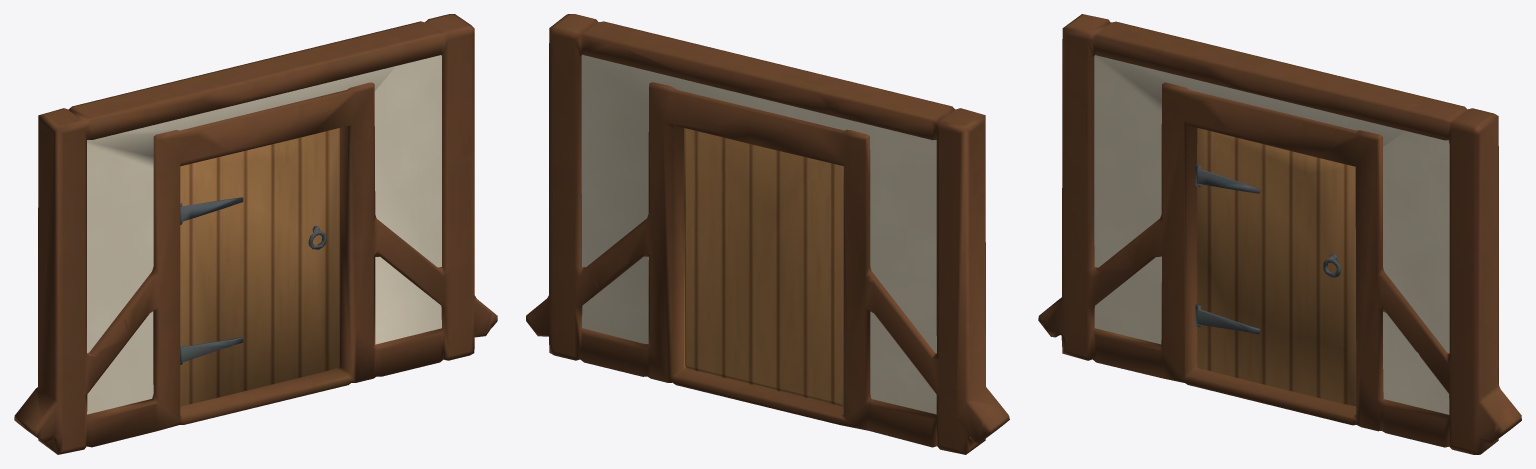
Rendered from plaster-wall-door.glb.
3 renders of one model, left to right at view 1: azimuth 30°, elevation 25°; view 2: azimuth 150°, elevation 25°; view 3: azimuth 330°, elevation 25°, orthographic.
Parts seen in each view (by area): view 1: door-leaf; view 2: door-leaf; view 3: door-leaf.
Part boxes in pixels (bbox=[...]): door-leaf: bbox=[14, 14, 497, 454]; door-leaf: bbox=[526, 14, 1009, 454]; door-leaf: bbox=[1038, 14, 1521, 454].
Bounding box in the file's own units: 2.22 × 1.5 × 0.18.
1 material, 1 textured.
